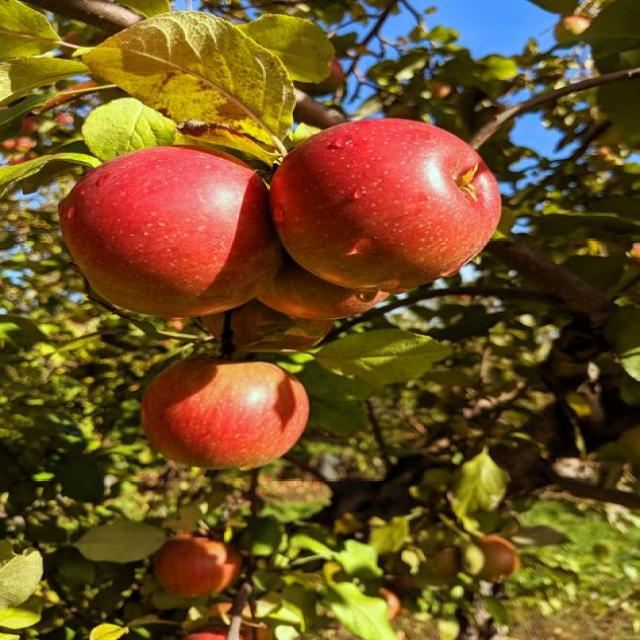Tao: (273, 117, 516, 290), (65, 140, 277, 322), (155, 349, 323, 477), (233, 214, 414, 328), (152, 534, 242, 596), (429, 532, 516, 583)
